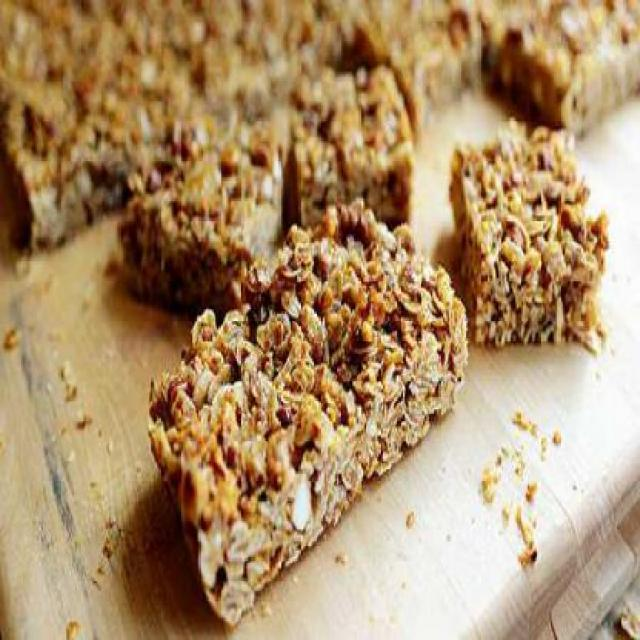Cereal bar packaged: (146, 207, 469, 621), (447, 115, 607, 352)
